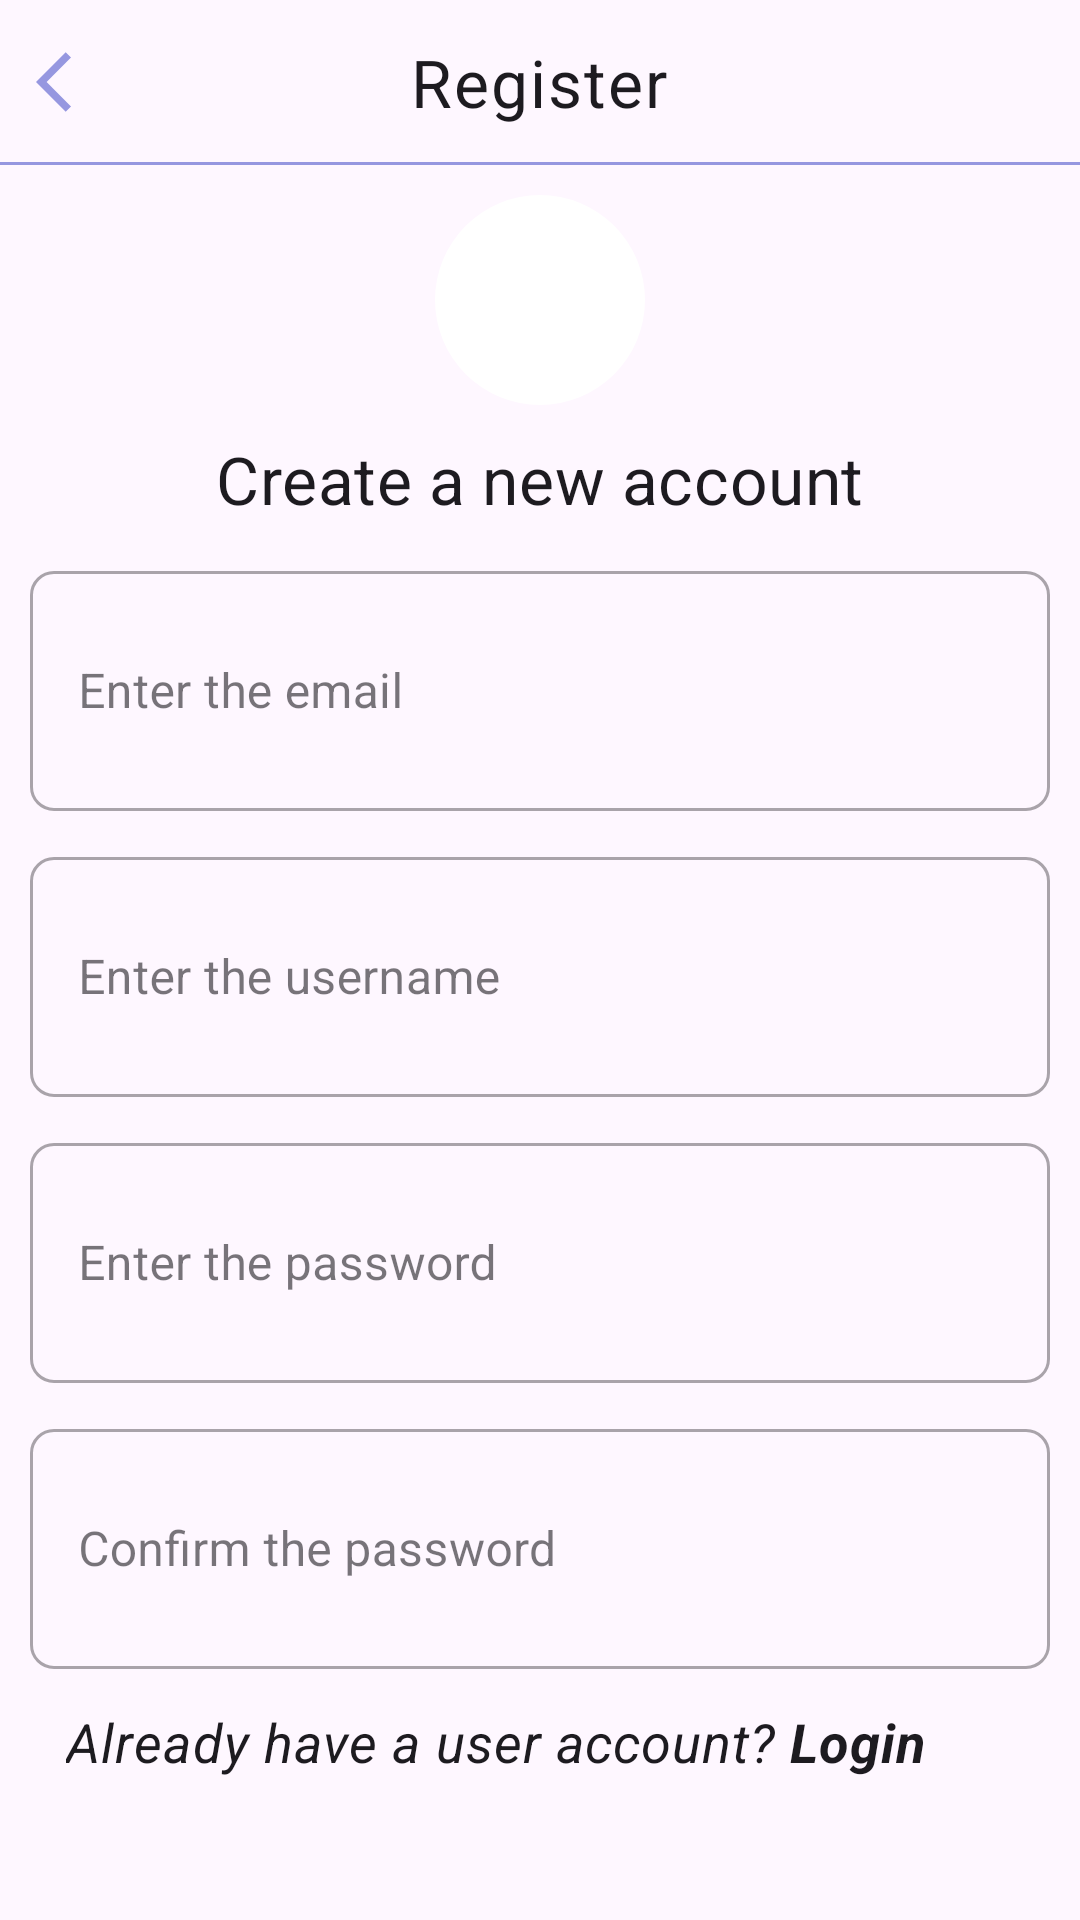

Icons on this 1080x1920 Android screen, each with its box as {"x1": x1, "y1": y1, "x2": x2, "y2": y2}:
Navigate Back: {"x1": 36, "y1": 52, "x2": 71, "y2": 112}
